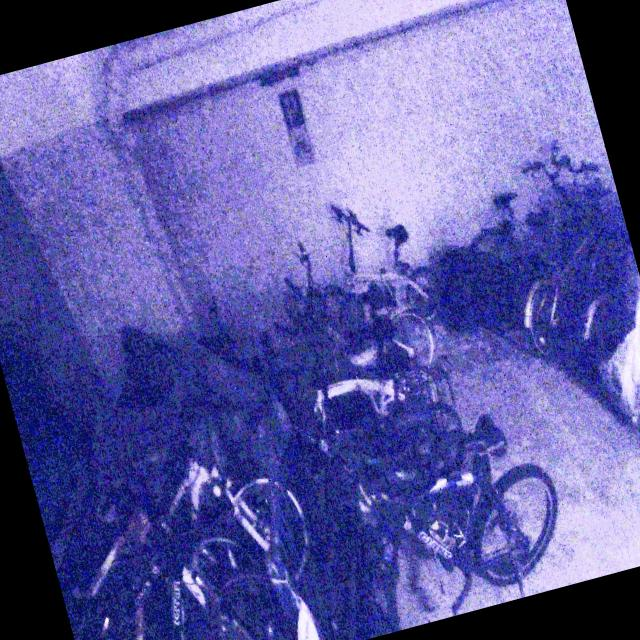bike: (54, 415, 323, 640), (332, 399, 580, 635), (272, 214, 443, 398), (450, 146, 618, 318), (308, 185, 452, 362)
